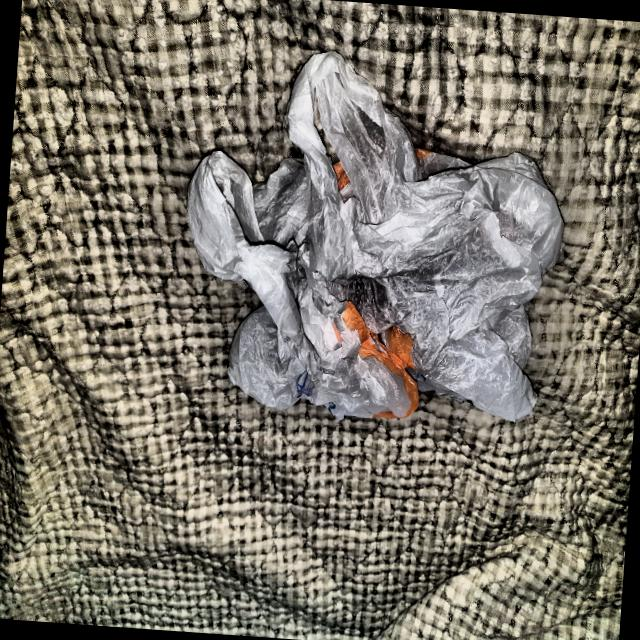plastic bag: (158, 36, 593, 453)
